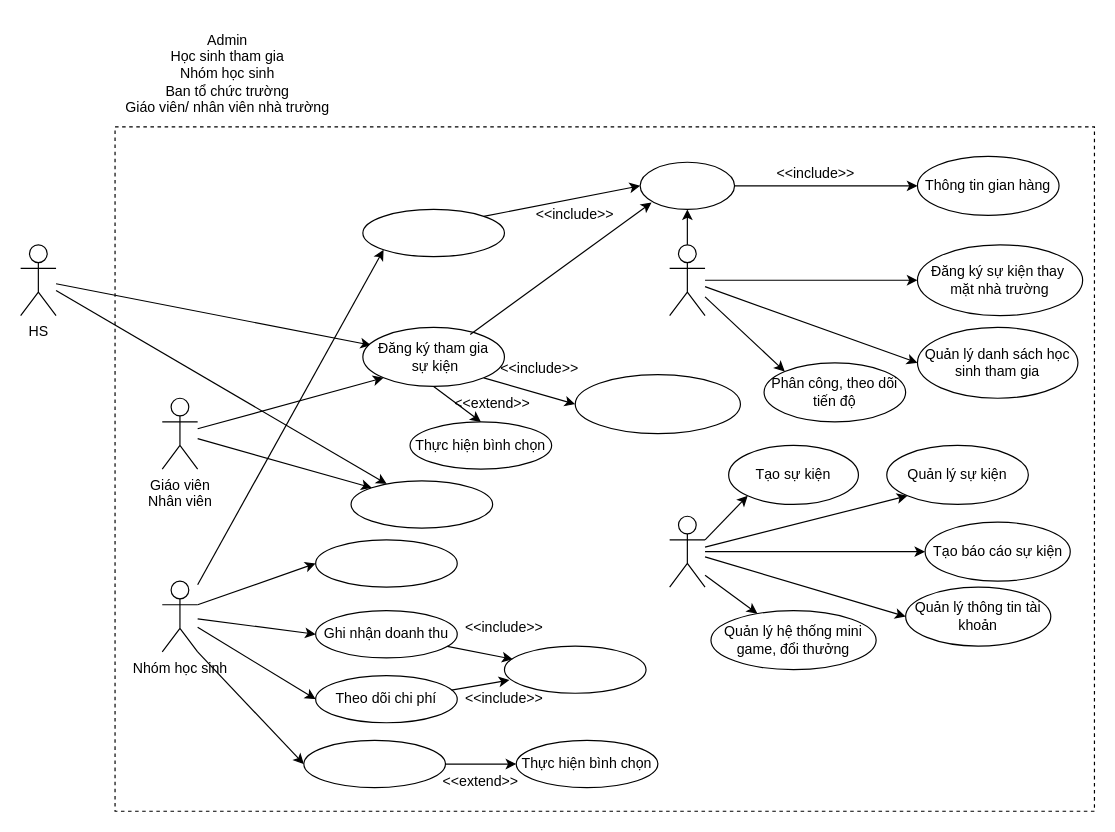
Image size: 1115x832. Some labels were removed from this diagram. The shapes that lost their labels are listed below. From the top down, each one's centre as x and y in pixels, then its label:
At [687,185]: "Xét duyệt".
At [433,232]: "Đăng ký gian hàng".
At [686,280]: "Ban tổ chức trường".
At [657,403]: "Tham gia mini game, đổi thưởng".
At [421,504]: "Xem thông tin sự kiện".
At [385,563]: "Nhập nguyên liệu".
At [686,551]: "Admin".
At [574,669]: "Xem lãi/lỗ".
At [374,763]: "Nhận phản hồi".
